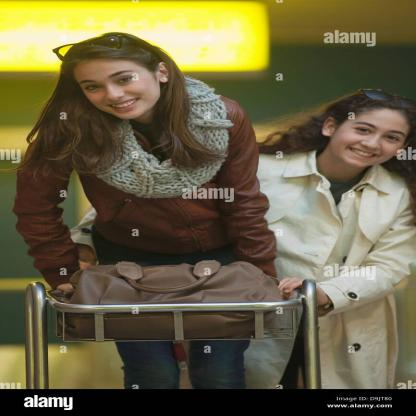airport-trolley: (18, 272, 321, 390)
